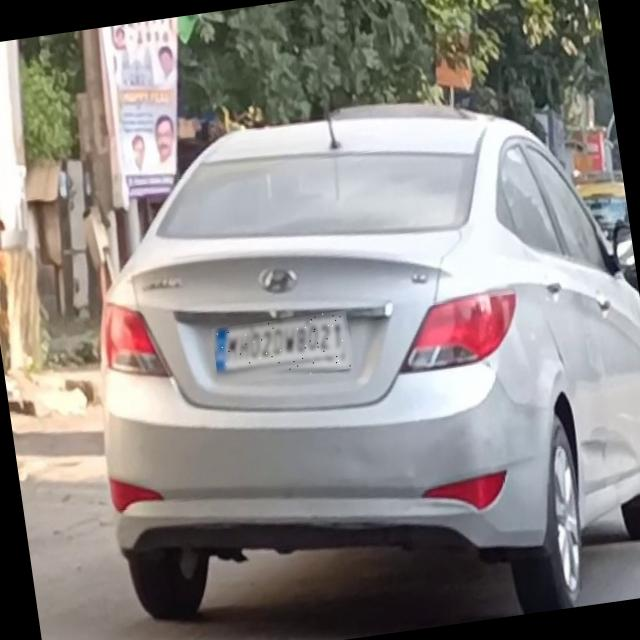Plate: (212, 312, 355, 388)
